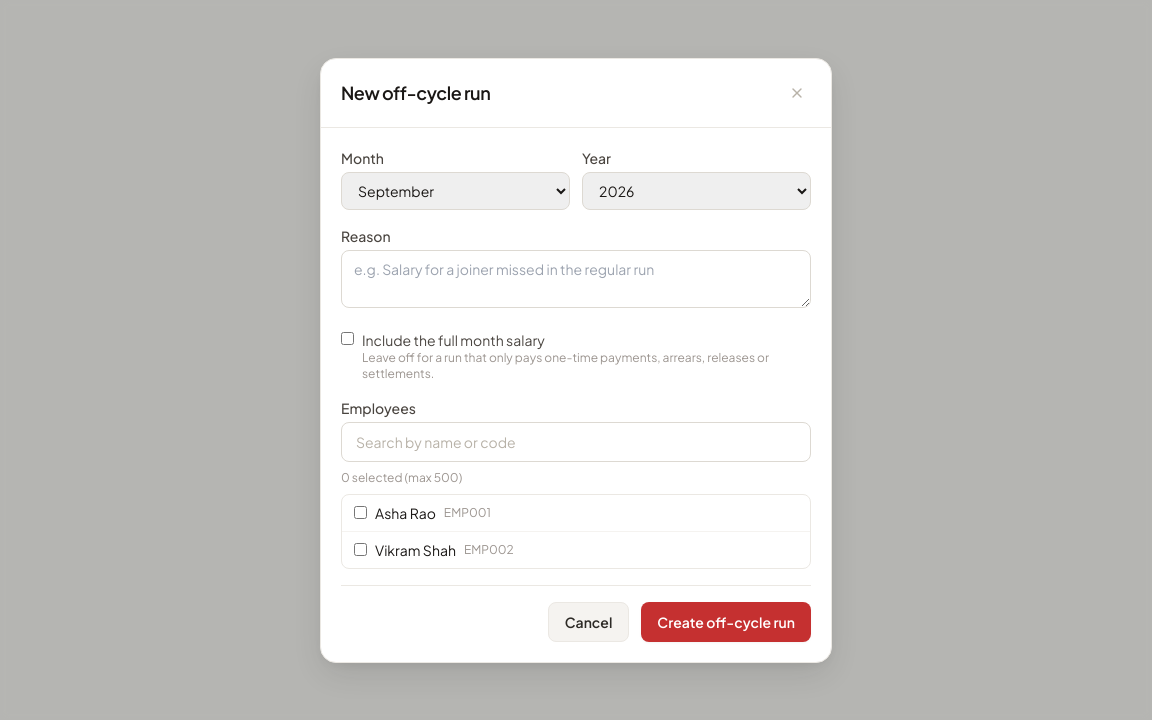
it: OffCycleRunDialog › requires a reason and at least one employee
Check: the text "Asha Rao" is shown, box top-left (375, 502), bottom-right (436, 522)
Click the button "Create off-cycle run": [726, 622] box top-left (641, 602), bottom-right (811, 642)
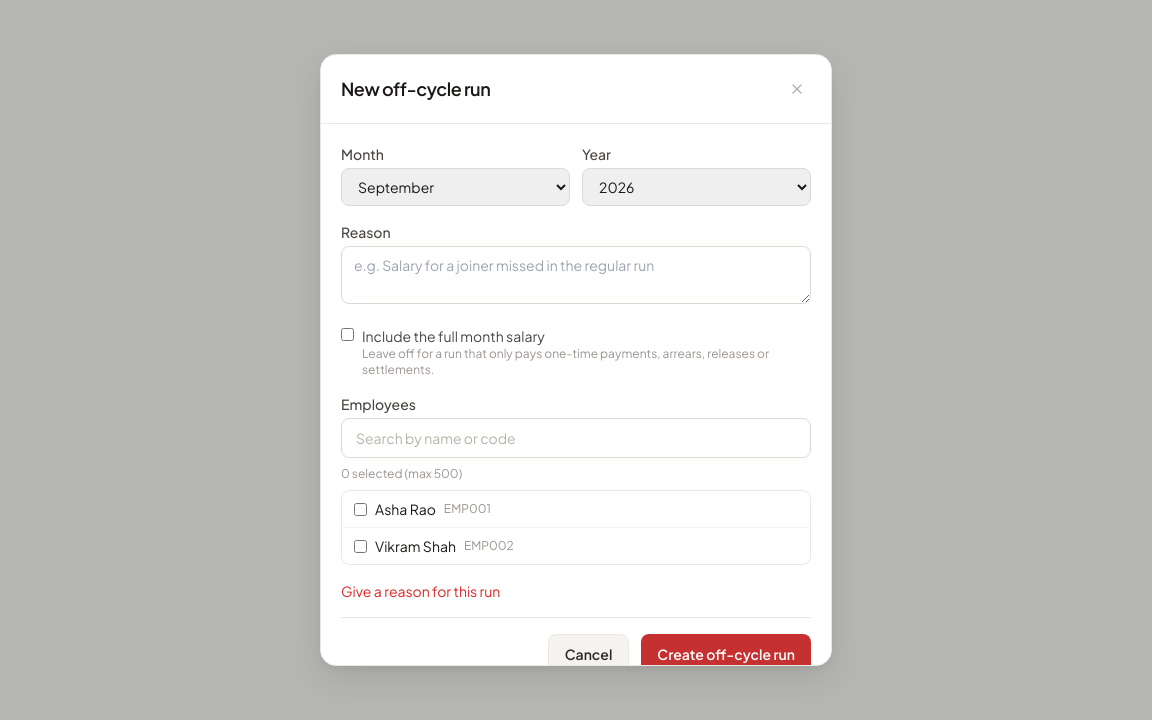
Check: the text "Give a reason for this run" is shown, box top-left (341, 582), bottom-right (500, 600)
In the text box labelled "Reason": [576, 275] box top-left (341, 246), bottom-right (811, 304), type "Bonus payout"
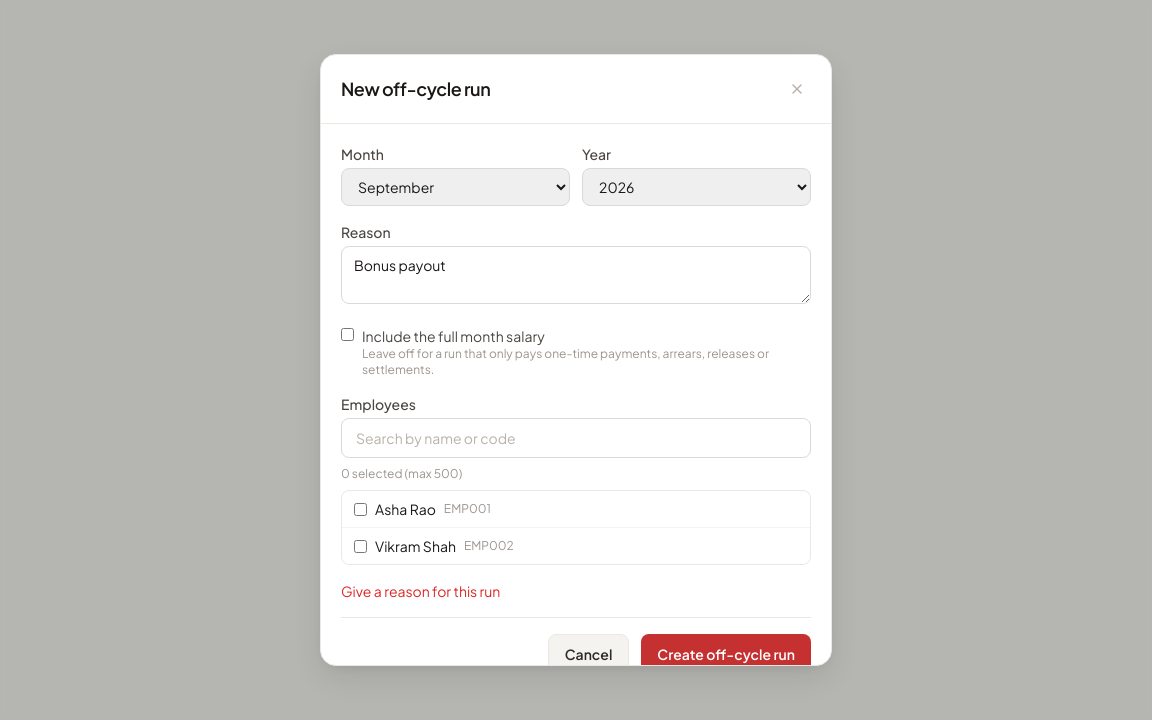
Click the button "Create off-cycle run": [726, 654] box top-left (641, 634), bottom-right (811, 674)
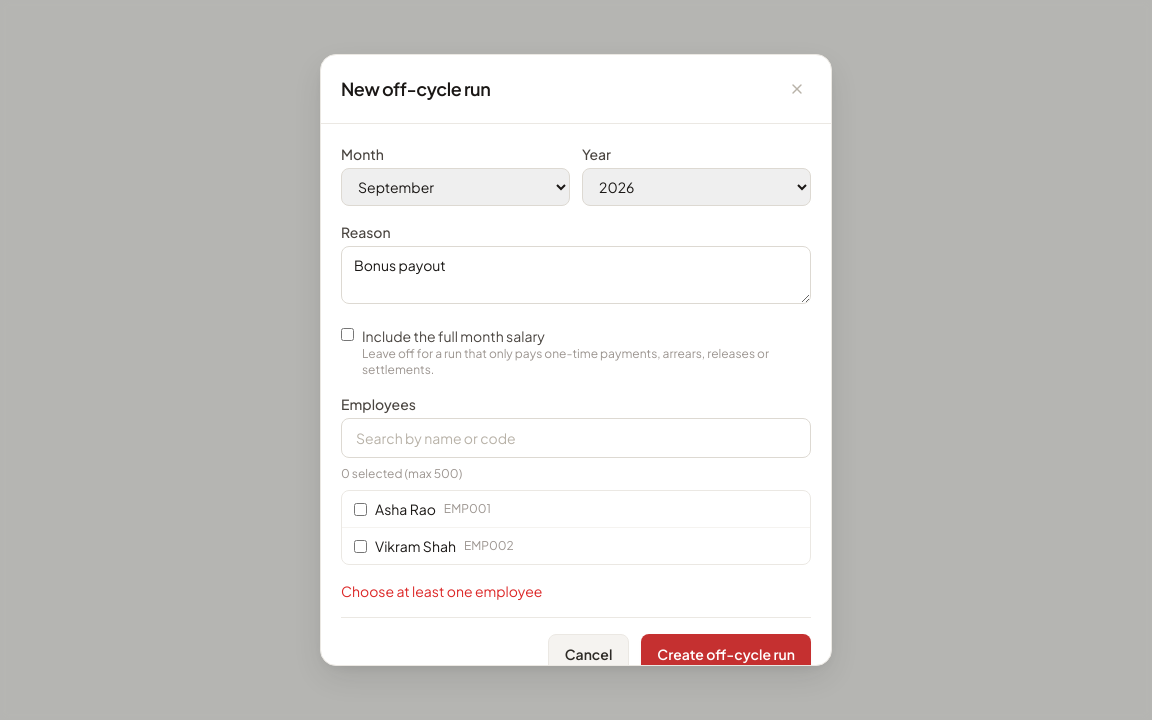
Check: the text "Choose at least one employee" is shown, box top-left (341, 582), bottom-right (542, 600)
